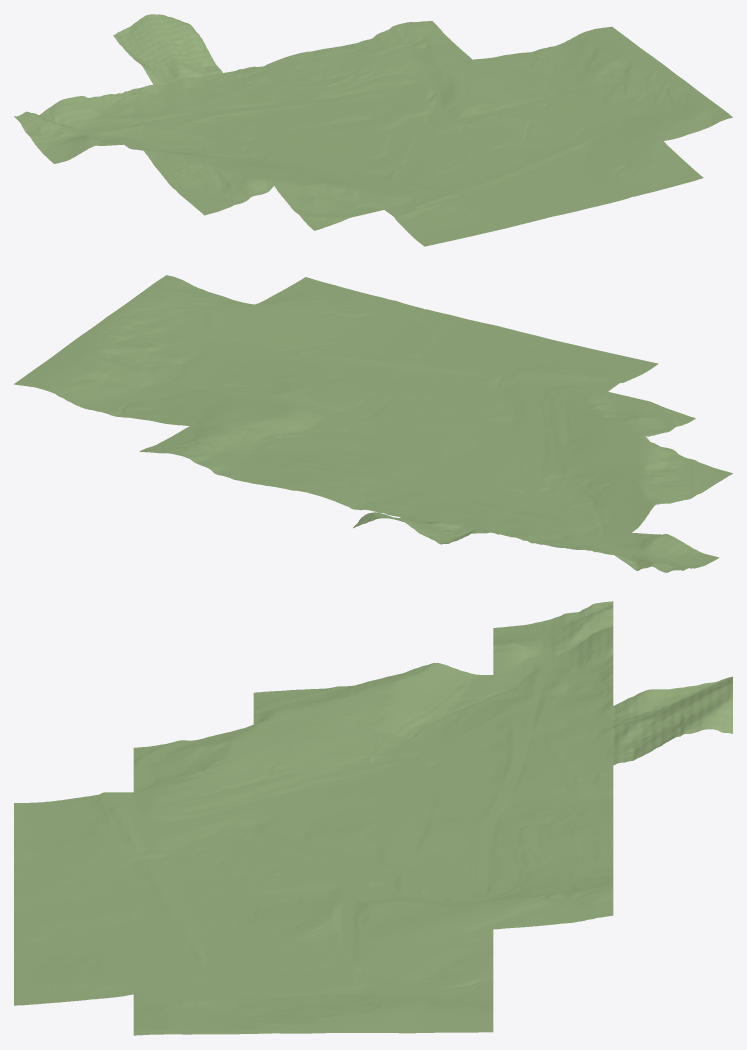
File: terrain_lod0.glb
3 renders of one model, top to bottom at view 1: azimuth 30°, elevation 25°; view 2: azimuth 150°, elevation 25°; view 3: azimuth 270°, elevation 25°, orthographic. The views are drawn at different scales.
Parts seen in each view (by area): view 1: t_5_8, t_4_5, t_3_7, t_4_7, t_8_7, t_5_7, t_7_7, t_5_4, t_6_7, t_10_5, t_8_6, t_8_5 (+19 smaller); view 2: t_9_4, t_10_4, t_10_6, t_10_5, t_8_3, t_4_6, t_5_5, t_6_4, t_7_4, t_8_4, t_7_3, t_8_6 (+19 smaller); view 3: t_5_5, t_4_6, t_6_4, t_9_6, t_5_8, t_7_6, t_7_4, t_6_3, t_7_3, t_7_7, t_6_5, t_5_7 (+19 smaller).
Part boxes in pixels (x1,y1,x2,y2): t_5_8: [113, 14, 222, 85]; t_4_5: [164, 159, 274, 215]; t_3_7: [14, 96, 123, 163]; t_4_7: [84, 84, 193, 144]; t_8_7: [363, 21, 472, 81]; t_5_7: [154, 73, 263, 129]; t_7_7: [293, 41, 402, 97]; t_5_4: [274, 178, 384, 230]; t_6_7: [223, 55, 332, 113]; t_10_5: [583, 56, 692, 114]; t_8_6: [403, 59, 512, 117]; t_8_5: [443, 96, 552, 151]; t_9_4: [204, 304, 342, 370]; t_10_4: [116, 275, 254, 346]; t_10_6: [14, 347, 152, 412]; t_10_5: [65, 311, 203, 380]; t_8_3: [343, 300, 481, 357]; t_4_6: [543, 477, 681, 532]; t_5_5: [506, 426, 644, 478]; t_6_4: [469, 372, 606, 428]; t_7_4: [380, 358, 518, 413]; t_8_4: [292, 336, 430, 392]; t_7_3: [431, 322, 569, 374]; t_8_6: [190, 398, 328, 453]; t_5_5: [253, 721, 373, 794]; t_4_6: [373, 663, 493, 738]; t_6_4: [133, 784, 253, 851]; t_9_6: [373, 929, 493, 995]; t_5_8: [613, 676, 732, 765]; t_7_6: [373, 833, 493, 895]; t_7_4: [133, 845, 253, 904]; t_6_3: [14, 792, 133, 855]; t_7_3: [14, 846, 133, 906]; t_7_7: [493, 814, 613, 884]; t_6_5: [253, 789, 373, 849]; t_5_7: [493, 706, 613, 781].
Bounding box in the file's own units: 2048 × 231 × 1536.
